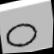no answer: (4, 20, 38, 50)
